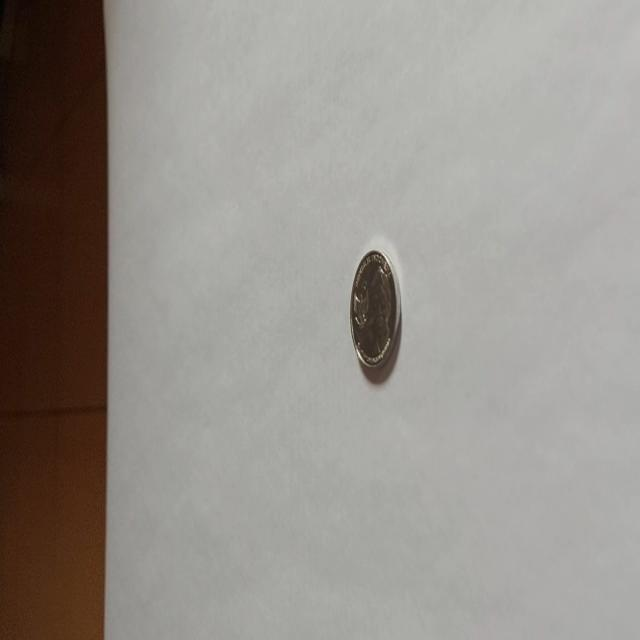dua ratus rupiah: (348, 248, 402, 371)
